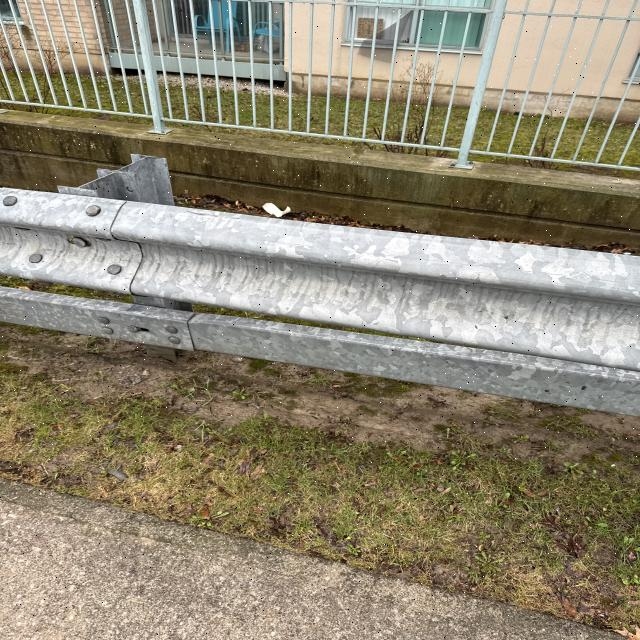Guard rail: (0, 180, 617, 379)
